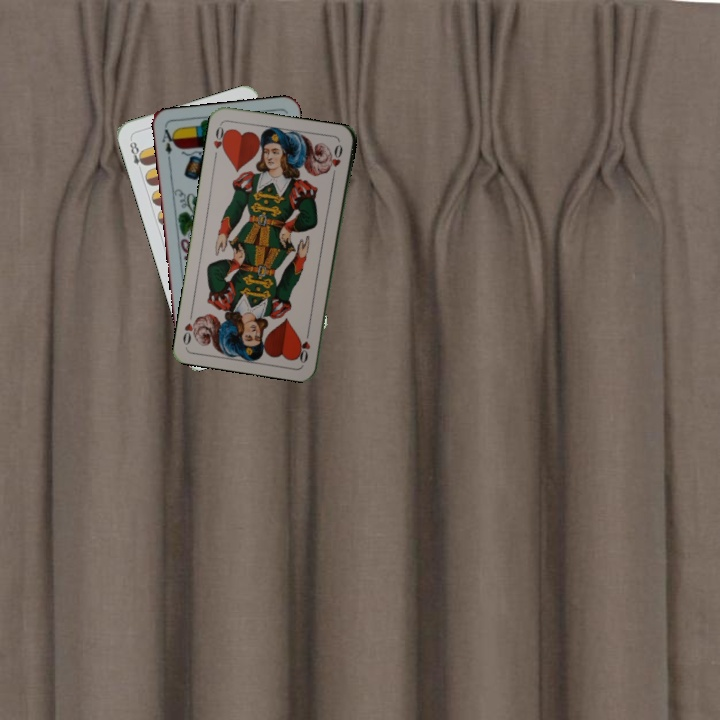E8: (126, 135, 149, 175)
EA: (158, 125, 178, 164)
HO: (209, 121, 230, 161), (297, 325, 313, 366)
